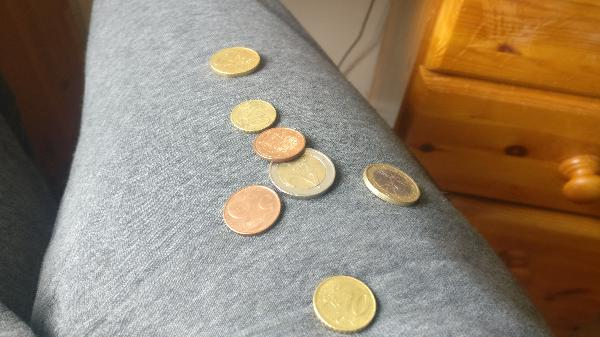Fifty Cent: (208, 42, 269, 77)
Five Cent: (222, 185, 283, 236), (254, 126, 305, 163)
One Euro: (363, 161, 421, 212)
Ten Cent: (316, 275, 377, 330), (227, 100, 277, 130)
Two Euro: (266, 147, 340, 198)
